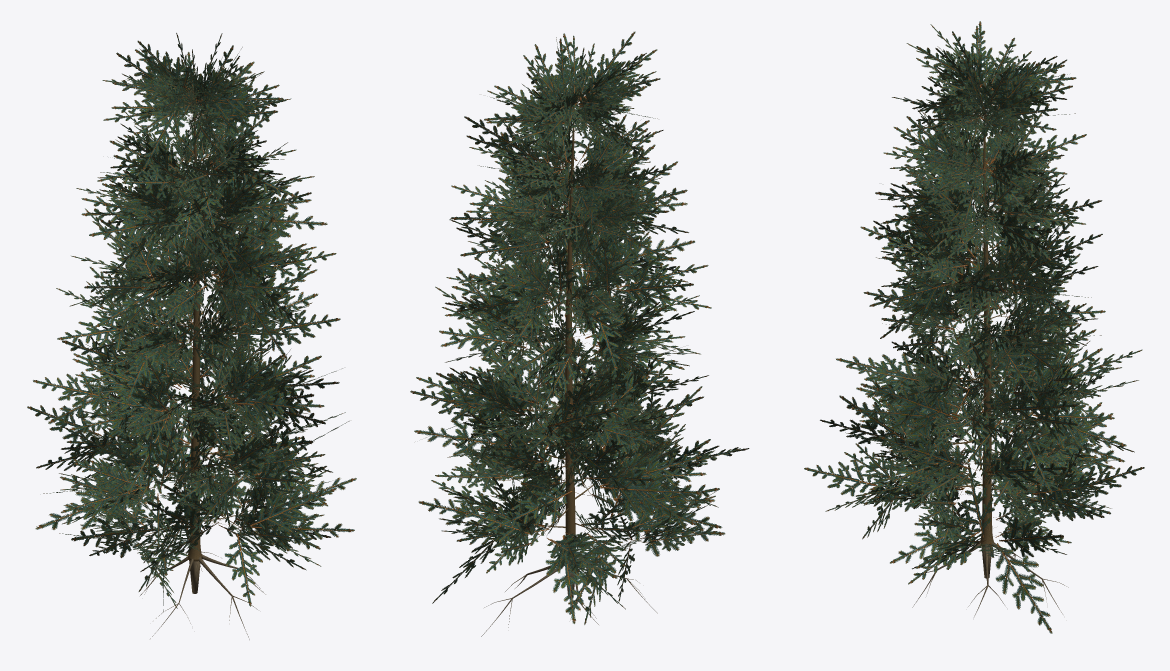
The model's file is tree_northwest_spruce_regeneration_008.glb.
3 renders of one model, left to right at view 1: azimuth 30°, elevation 25°; view 2: azimuth 150°, elevation 25°; view 3: azimuth 270°, elevation 25°, orthographic. The views are drawn at different scales.
Visible parts, largest first — view 1: tree.northwest_spruce.regeneration.008.foliage.001, tree.northwest_spruce.regeneration.008.wood.001, tree.northwest_spruce.regeneration.008.roots.001; view 2: tree.northwest_spruce.regeneration.008.foliage.001, tree.northwest_spruce.regeneration.008.wood.001, tree.northwest_spruce.regeneration.008.roots.001; view 3: tree.northwest_spruce.regeneration.008.foliage.001, tree.northwest_spruce.regeneration.008.wood.001, tree.northwest_spruce.regeneration.008.roots.001.
Part boxes in pixels (box(x1,y1,x2,y2)): tree.northwest_spruce.regeneration.008.foliage.001: box(27, 33, 356, 611); tree.northwest_spruce.regeneration.008.wood.001: box(102, 69, 277, 561); tree.northwest_spruce.regeneration.008.roots.001: box(140, 551, 265, 639); tree.northwest_spruce.regeneration.008.foliage.001: box(410, 31, 749, 624); tree.northwest_spruce.regeneration.008.wood.001: box(488, 83, 671, 565); tree.northwest_spruce.regeneration.008.roots.001: box(481, 563, 657, 636); tree.northwest_spruce.regeneration.008.foliage.001: box(804, 21, 1144, 633); tree.northwest_spruce.regeneration.008.wood.001: box(871, 73, 1077, 546); tree.northwest_spruce.regeneration.008.roots.001: box(912, 540, 1068, 616).
Size of the model in its own units: 0.6097 by 1.15 by 0.6606.
Materials: 3 (3 with a texture image).
